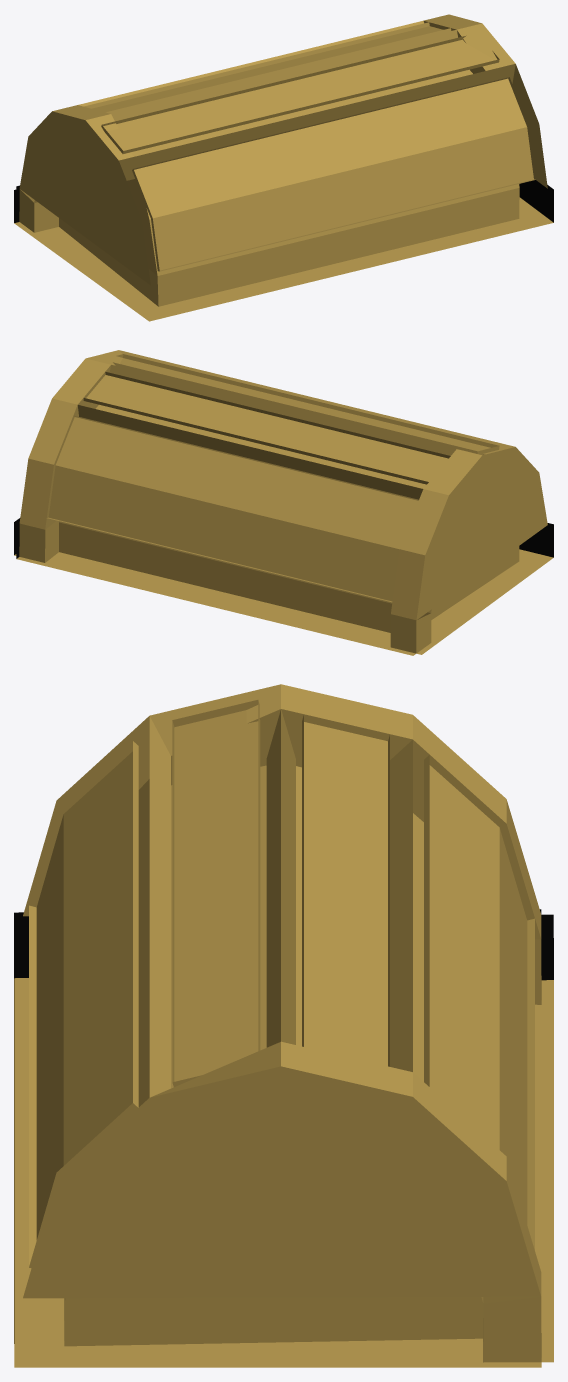
File: chest-top.fbx
The picture shows the model from 3 angles, top to bottom: view 1: azimuth 30°, elevation 25°; view 2: azimuth 150°, elevation 25°; view 3: azimuth 270°, elevation 25°; orthographic projection. The views are drawn at different scales.
Visible parts, largest first — view 1: Plane; view 2: Plane; view 3: Plane.
Boxes of the visible parts, x1,y1,x2,y2 form: Plane: (14,14,553,321); Plane: (14,350,553,655); Plane: (14,684,553,1367).
Size of the model in its own units: 206 by 72.65 by 119.
